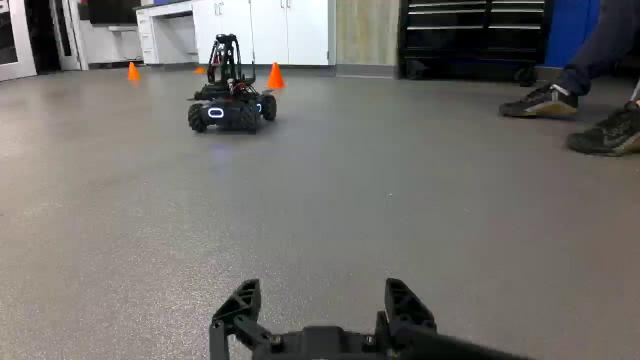robot: (185, 31, 278, 135)
